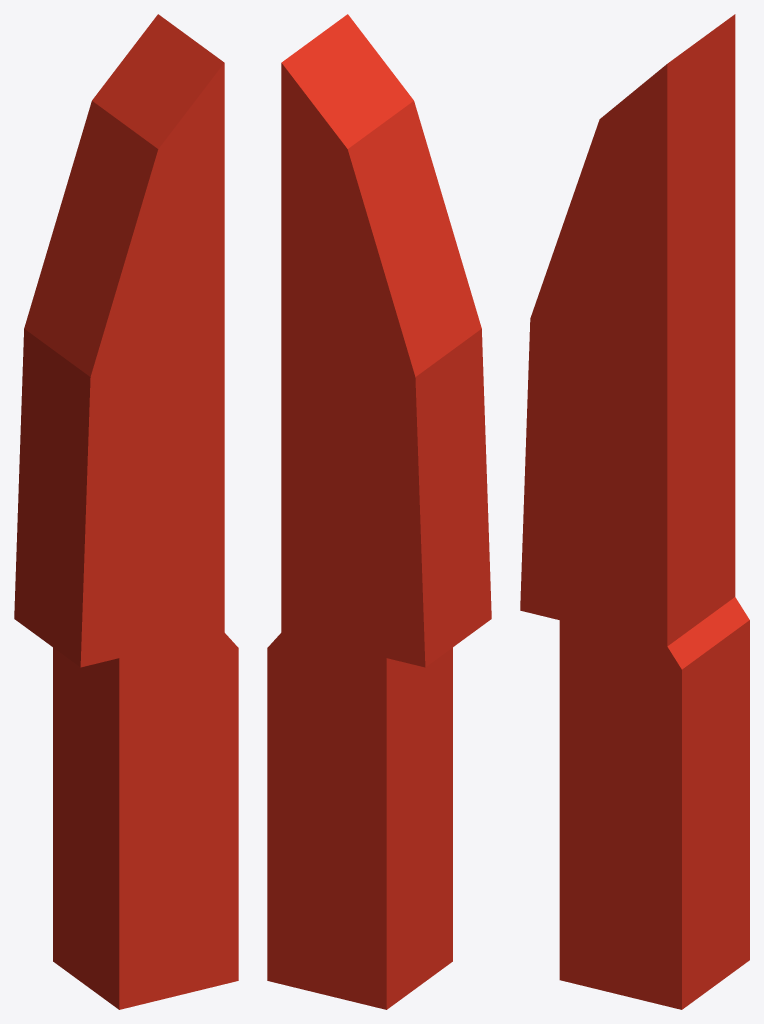
File: Icon_KitchenKnife.fbx
3 renders of one model, left to right at view 1: azimuth 30°, elevation 25°; view 2: azimuth 150°, elevation 25°; view 3: azimuth 330°, elevation 25°, orthographic. The views are drawn at different scales.
Visible parts, largest first — view 1: Icon_KitchenKnife; view 2: Icon_KitchenKnife; view 3: Icon_KitchenKnife.
Part boxes in pixels (x1,y1,x2,y2): Icon_KitchenKnife: (14,14,238,1009); Icon_KitchenKnife: (267,14,491,1009); Icon_KitchenKnife: (520,14,749,1009).
Size of the model in its own units: 13.58 by 75.61 by 9.87.
